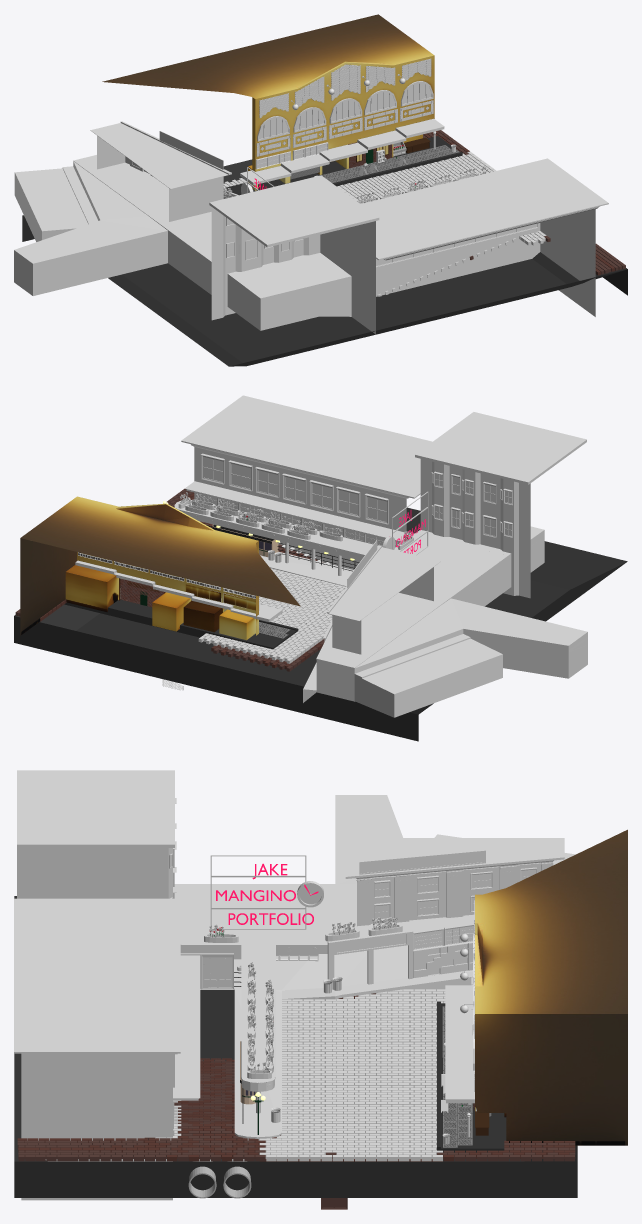
Rendered from pike (1).glb.
The picture shows the model from 3 angles, top to bottom: view 1: azimuth 30°, elevation 25°; view 2: azimuth 150°, elevation 25°; view 3: azimuth 270°, elevation 25°; orthographic projection. The views are drawn at different scales.
Parts seen in each view (by area): view 1: mainBuilding, building1test, platform, building4, building2, building3, building4TopWindows, building4Balcony, brickFloorFron, garage, building4BricksRight, mainBuildingCeiling (+9 smaller); view 2: mainBuilding, building4, platform, building1test, building2, building3, mainBuildingCeiling, brickFloorBack, building1TopWindows, building1Balcony, building2Windows, garage (+10 smaller); view 3: building4, building1test, platform, building2, mainBuilding, brickFloorFron, brickFloorBack, mainBuildingCeiling, edgeBricks, building3, building1Balcony, building4Balcony (+12 smaller).
Boxes of the visible parts, bbox=[...] form: mainBuilding: bbox=[14, 155, 351, 330]; building1test: bbox=[361, 158, 608, 316]; platform: bbox=[22, 159, 627, 366]; building4: bbox=[102, 14, 434, 190]; building2: bbox=[209, 175, 379, 334]; building3: bbox=[90, 121, 231, 221]; building4TopWindows: bbox=[257, 81, 433, 141]; building4Balcony: bbox=[240, 118, 444, 185]; brickFloorFron: bbox=[347, 151, 496, 199]; garage: bbox=[224, 136, 462, 195]; building4BricksRight: bbox=[329, 100, 433, 139]; mainBuildingCeiling: bbox=[168, 219, 211, 261]; mainBuilding: bbox=[174, 501, 587, 717]; building4: bbox=[20, 496, 300, 640]; platform: bbox=[14, 507, 627, 741]; building1test: bbox=[181, 395, 432, 569]; building2: bbox=[415, 412, 586, 598]; building3: bbox=[327, 545, 440, 654]; mainBuildingCeiling: bbox=[174, 500, 507, 597]; brickFloorBack: bbox=[211, 568, 346, 663]; building1TopWindows: bbox=[201, 453, 388, 524]; building1Balcony: bbox=[185, 481, 412, 542]; building2Windows: bbox=[431, 471, 512, 537]; garage: bbox=[64, 586, 298, 649]; building4: bbox=[474, 829, 627, 1145]; building1test: bbox=[14, 898, 180, 1200]; platform: bbox=[14, 896, 577, 1198]; building2: bbox=[17, 770, 174, 898]; mainBuilding: bbox=[174, 795, 575, 1140]; brickFloorFron: bbox=[259, 1073, 442, 1161]; brickFloorBack: bbox=[282, 989, 445, 1075]; mainBuildingCeiling: bbox=[181, 884, 335, 1091]; edgeBricks: bbox=[17, 1058, 575, 1161]; building3: bbox=[345, 838, 564, 926]; building1Balcony: bbox=[173, 955, 200, 1135]; building4Balcony: bbox=[445, 985, 474, 1103].
Bounding box in the file's own units: 57.06 × 23.68 × 45.59.
68 materials, 2 textured.
